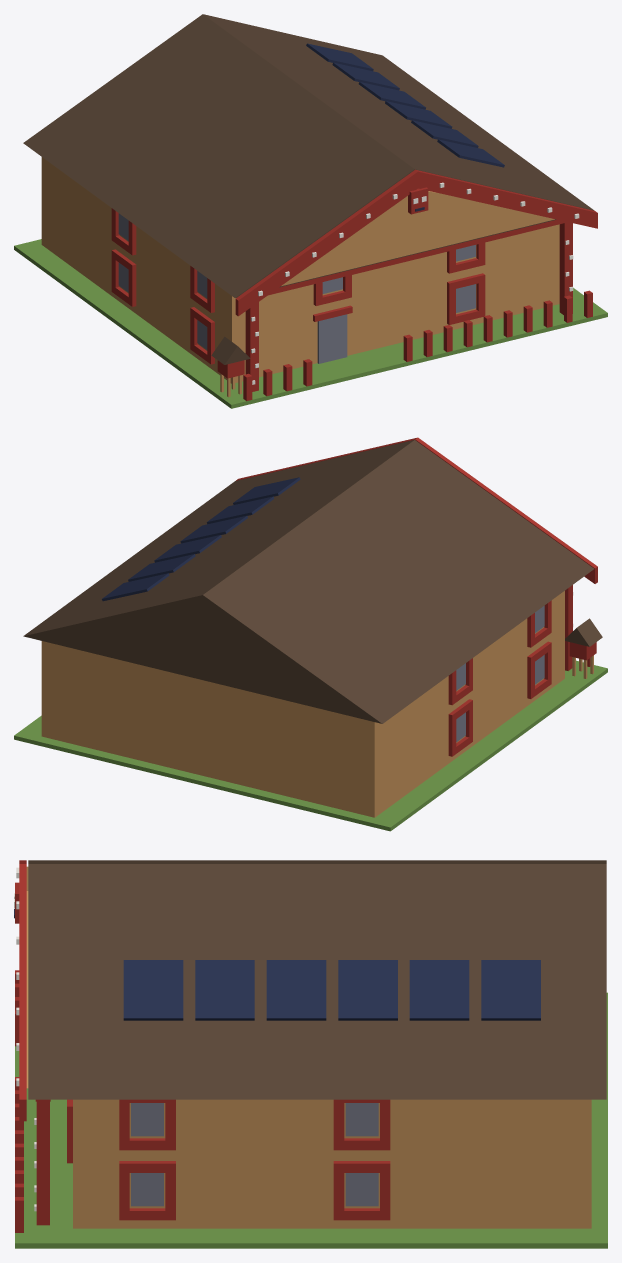
Rendered from house-2x2-2f-whare-a-solar.glb.
The picture shows the model from 3 angles, top to bottom: view 1: azimuth 30°, elevation 25°; view 2: azimuth 150°, elevation 25°; view 3: azimuth 270°, elevation 25°; orthographic projection. The views are drawn at different scales.
Visible parts, largest first — view 1: house-2x2-2f-whare-a-solar; view 2: house-2x2-2f-whare-a-solar; view 3: house-2x2-2f-whare-a-solar.
Boxes of the visible parts, left/top/right/bottom form: house-2x2-2f-whare-a-solar: left=14, top=14, right=607, bottom=408; house-2x2-2f-whare-a-solar: left=14, top=437, right=607, bottom=831; house-2x2-2f-whare-a-solar: left=14, top=860, right=607, bottom=1248.
Bounding box in the file's own units: 2 × 0.96 × 1.99.
Materials: 1 (1 with a texture image).
